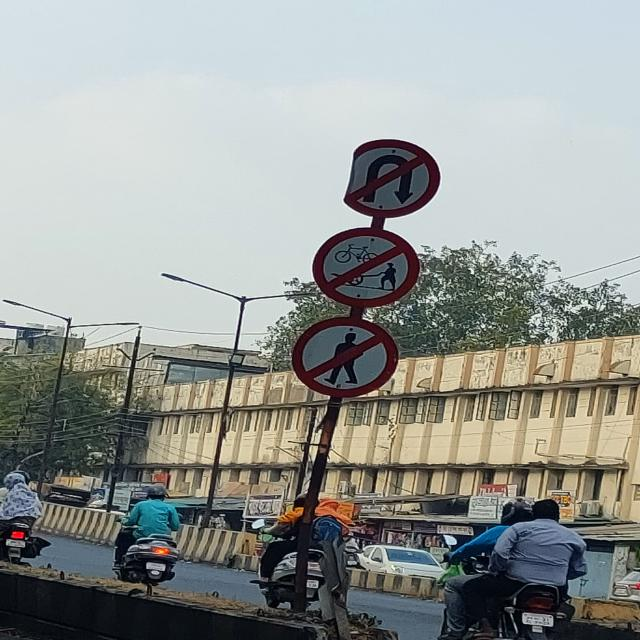cycle_prohibited: (309, 225, 422, 308)
